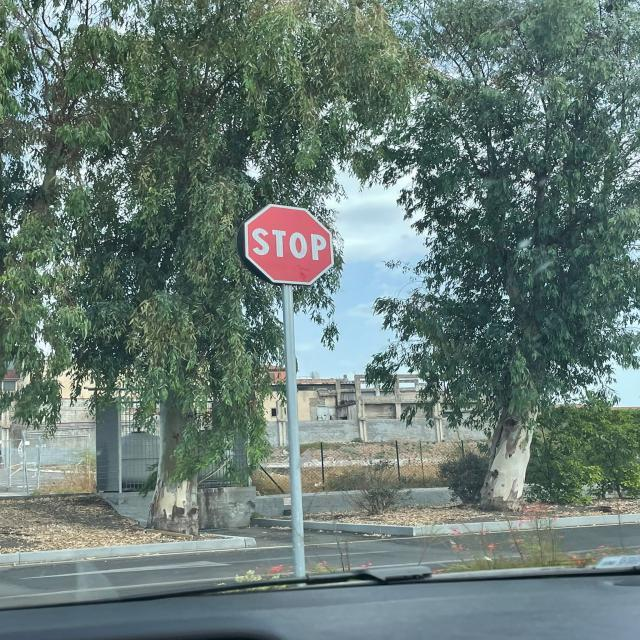prio_stop: (244, 203, 335, 286)
